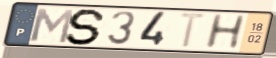3: (106, 9, 137, 47)
4: (138, 10, 170, 49)
H: (202, 13, 249, 51)
M: (28, 6, 76, 45)
S: (64, 8, 109, 46)
T: (177, 12, 211, 50)
